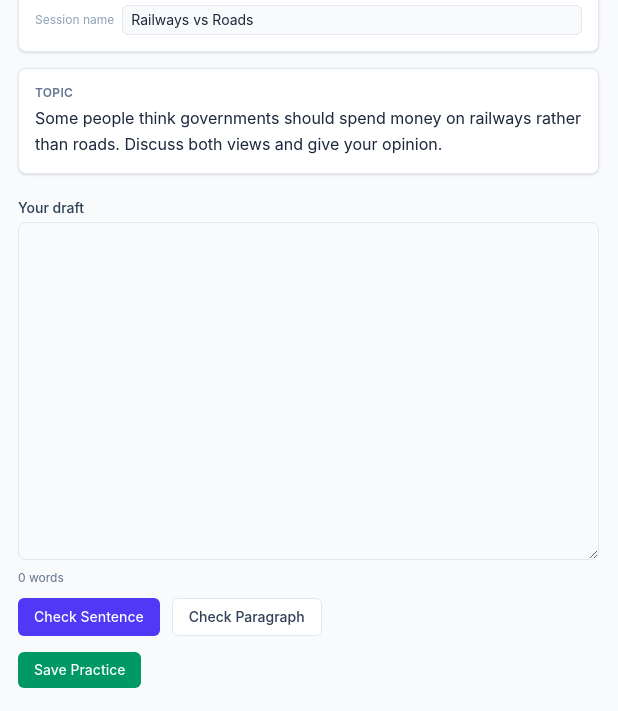
shows error banner and preserves draft when API fails
The width and height of the screenshot is (618, 711).
(page scrolled)
Type "My draft." into the text box named "writing draft" at (308, 391), box x1=18 y1=222 x2=599 y2=560
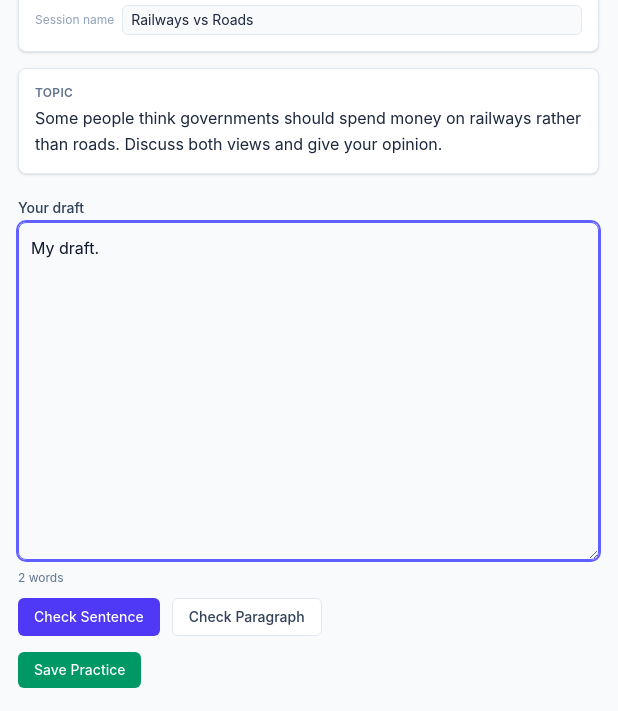
Click the button "Check Sentence" at (89, 617), box x1=18 y1=598 x2=160 y2=636
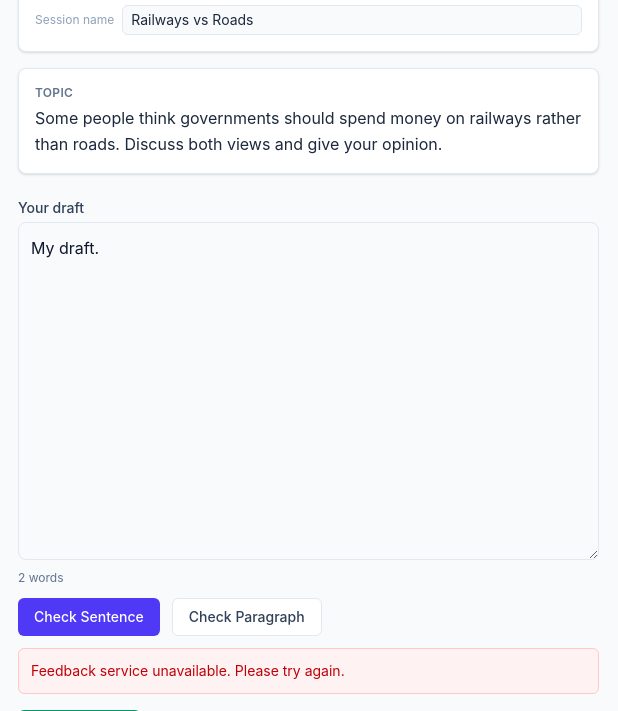
Expected: the message "Feedback service unavailable. Please try again." is shown, x1=18 y1=648 x2=599 y2=694
